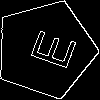E: (20, 24, 77, 72)
